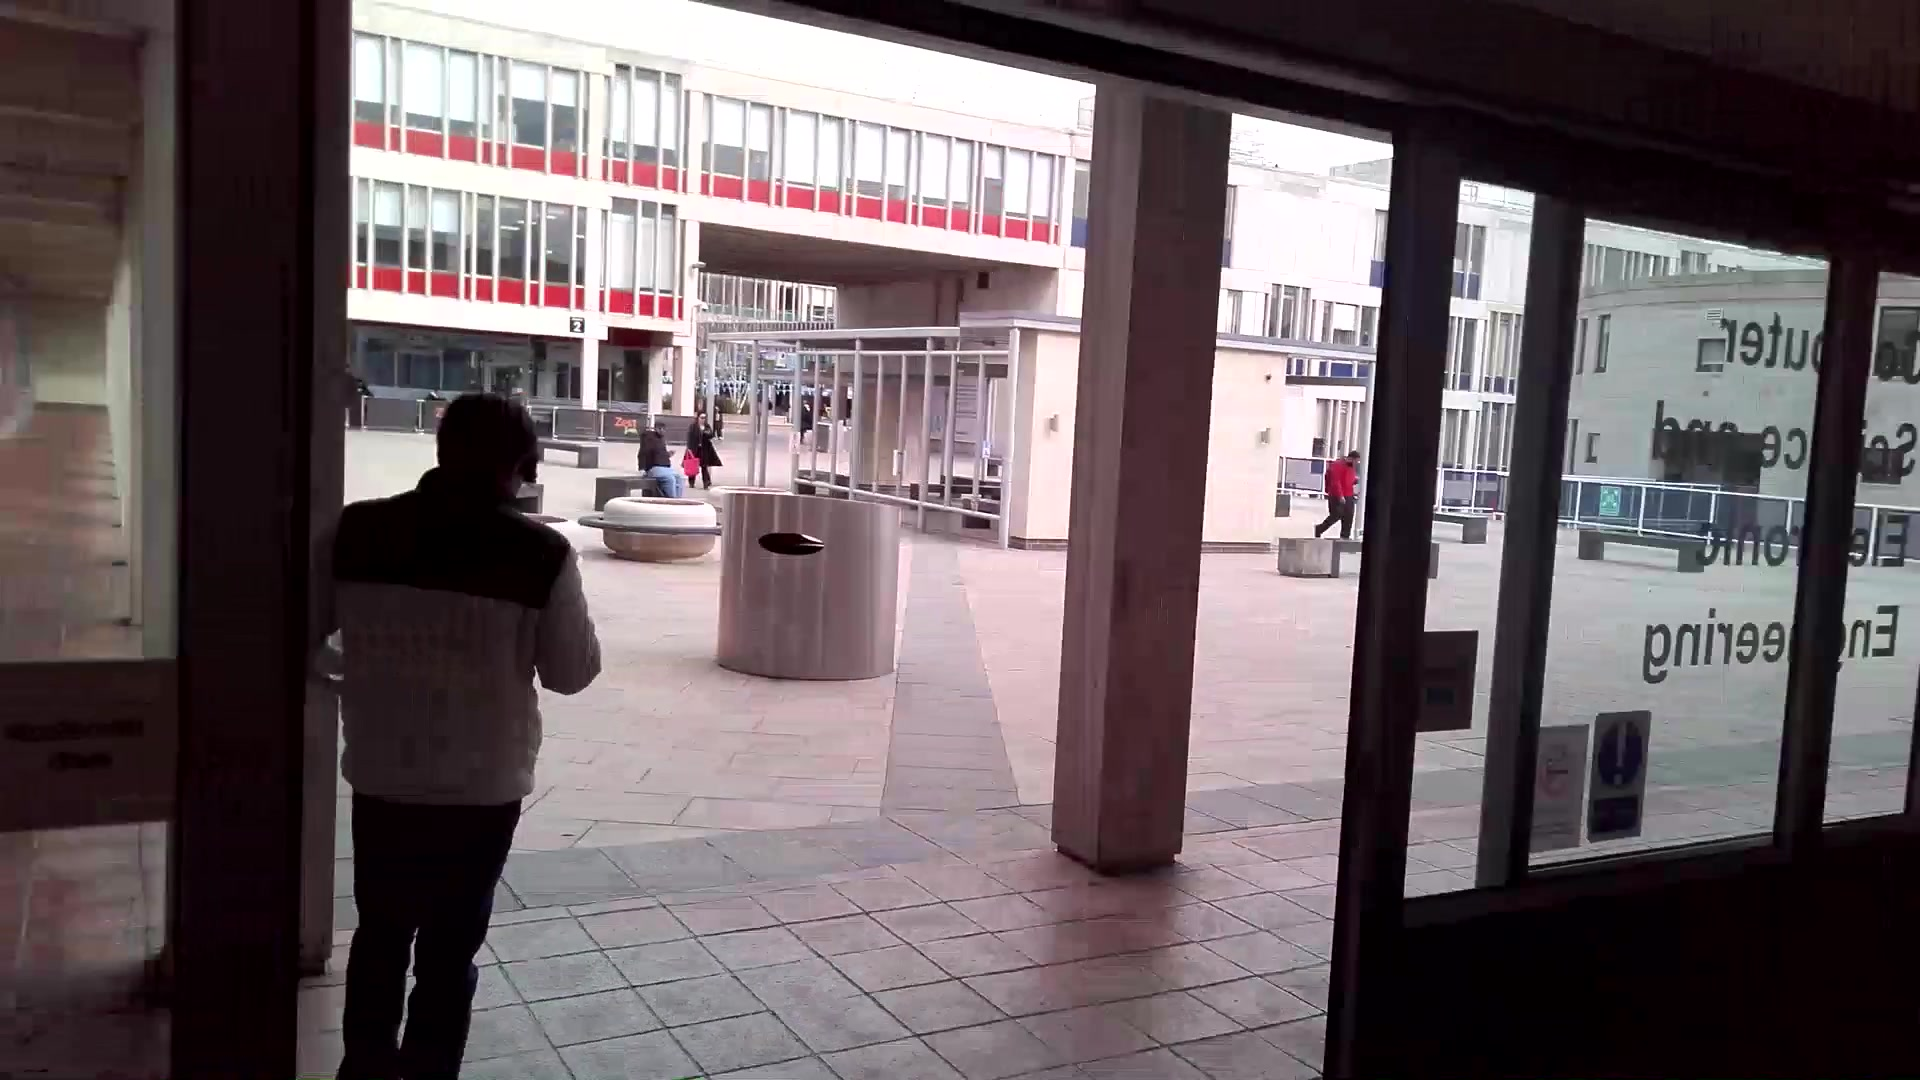Bin: (726, 486, 909, 698)
Person: (364, 389, 552, 1075), (1320, 446, 1365, 546)
